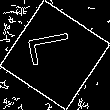L_E: (27, 35, 83, 75)
